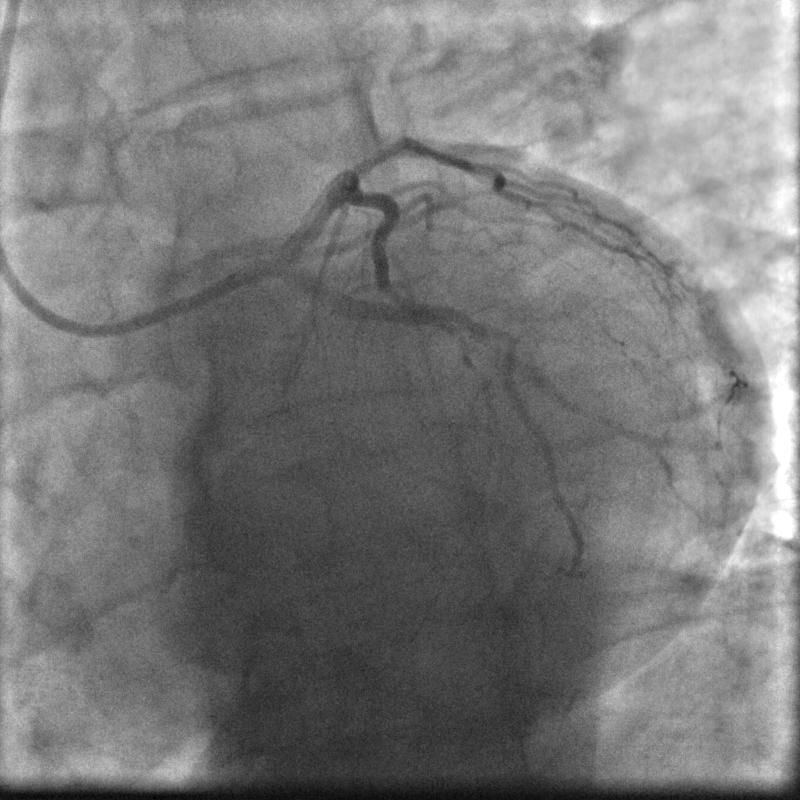Stenosis: (350, 133, 404, 170)
